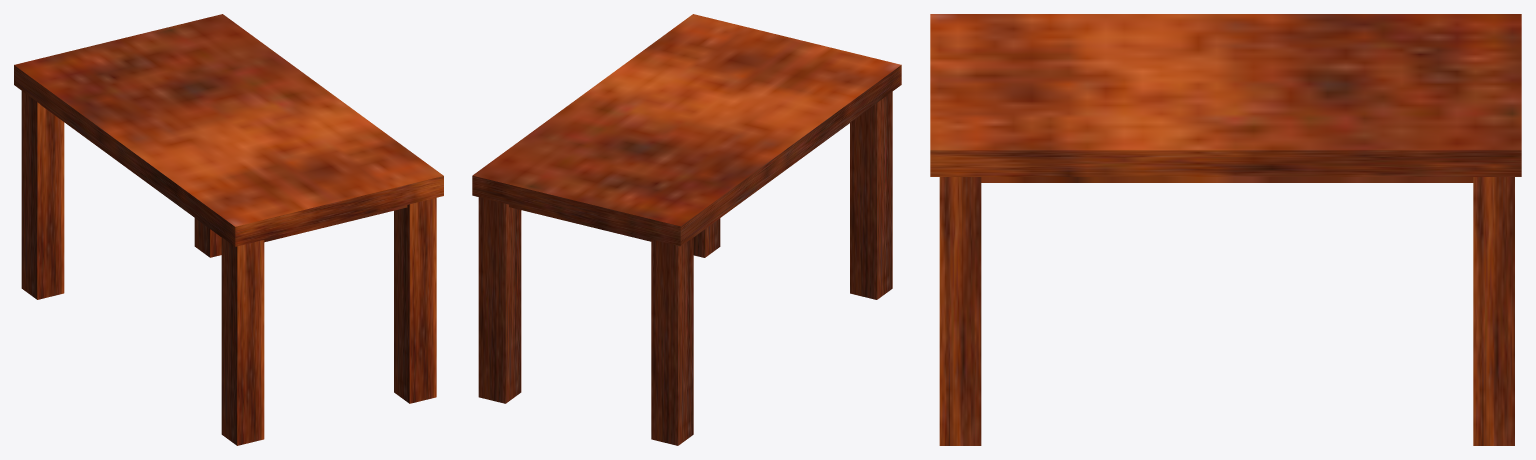
The model's file is Wooden_Table.fbx.
The picture shows the model from 3 angles, left to right: view 1: azimuth 30°, elevation 25°; view 2: azimuth 150°, elevation 25°; view 3: azimuth 270°, elevation 25°; orthographic projection. The views are drawn at different scales.
Visible parts, largest first — view 1: Table; view 2: Table; view 3: Table.
Part boxes in pixels (left/top/right/bottom): Table: left=14, top=14, right=443, bottom=445; Table: left=472, top=14, right=901, bottom=445; Table: left=930, top=14, right=1521, bottom=445.
Bounding box in the file's own units: 394 × 402 × 723.
